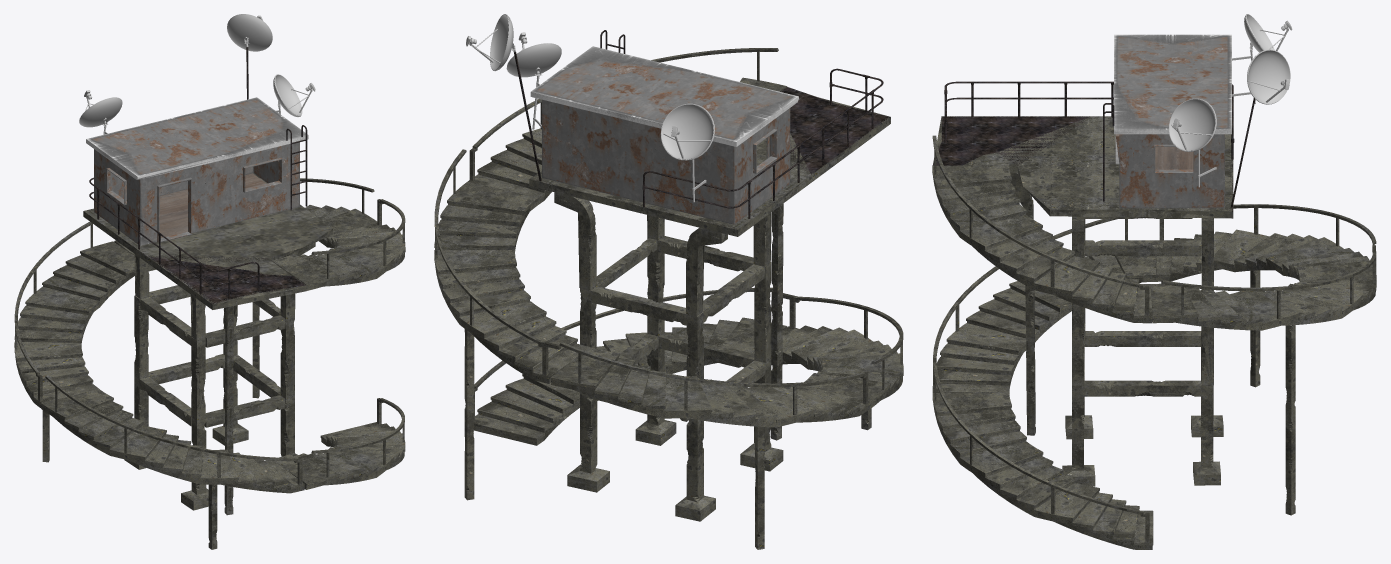
Rendered from CommTower.fbx.
3 renders of one model, left to right at view 1: azimuth 30°, elevation 25°; view 2: azimuth 150°, elevation 25°; view 3: azimuth 270°, elevation 25°, orthographic. The views are drawn at different scales.
Visible parts, largest first — view 1: Radio_tower_Bootcamp; view 2: Radio_tower_Bootcamp; view 3: Radio_tower_Bootcamp.
Part boxes in pixels (left/top/right/bottom): Radio_tower_Bootcamp: left=14, top=14, right=405, bottom=549; Radio_tower_Bootcamp: left=434, top=14, right=903, bottom=549; Radio_tower_Bootcamp: left=932, top=14, right=1376, bottom=549.
Size of the model in its own units: 22.04 by 24.94 by 22.14.
